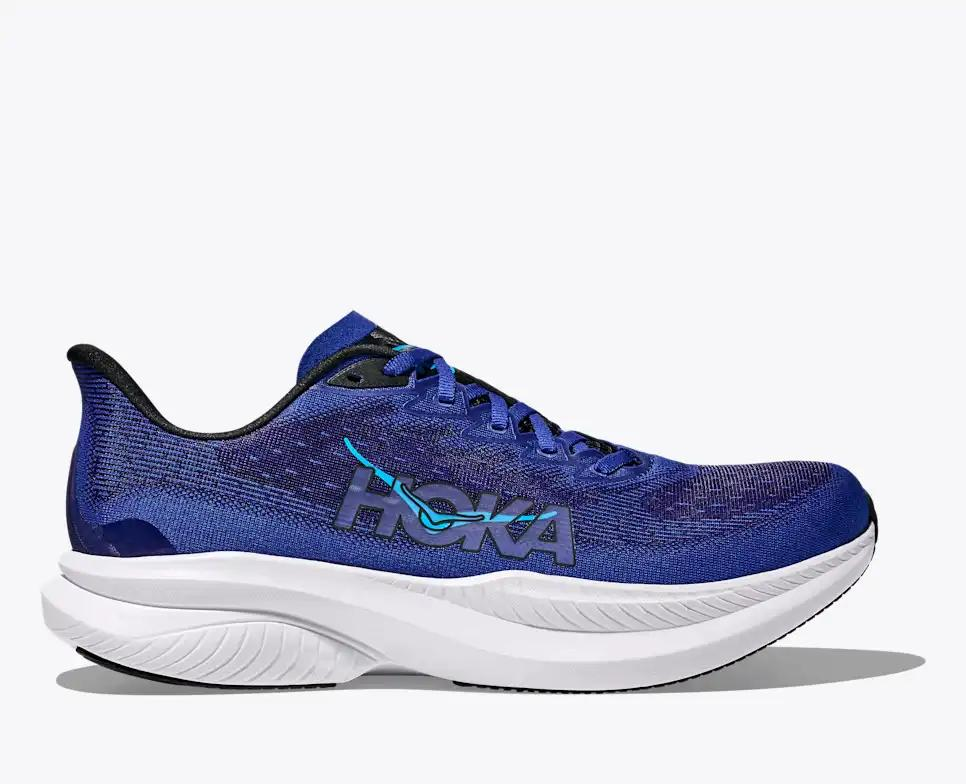hoka logo: (334, 438, 573, 564)
